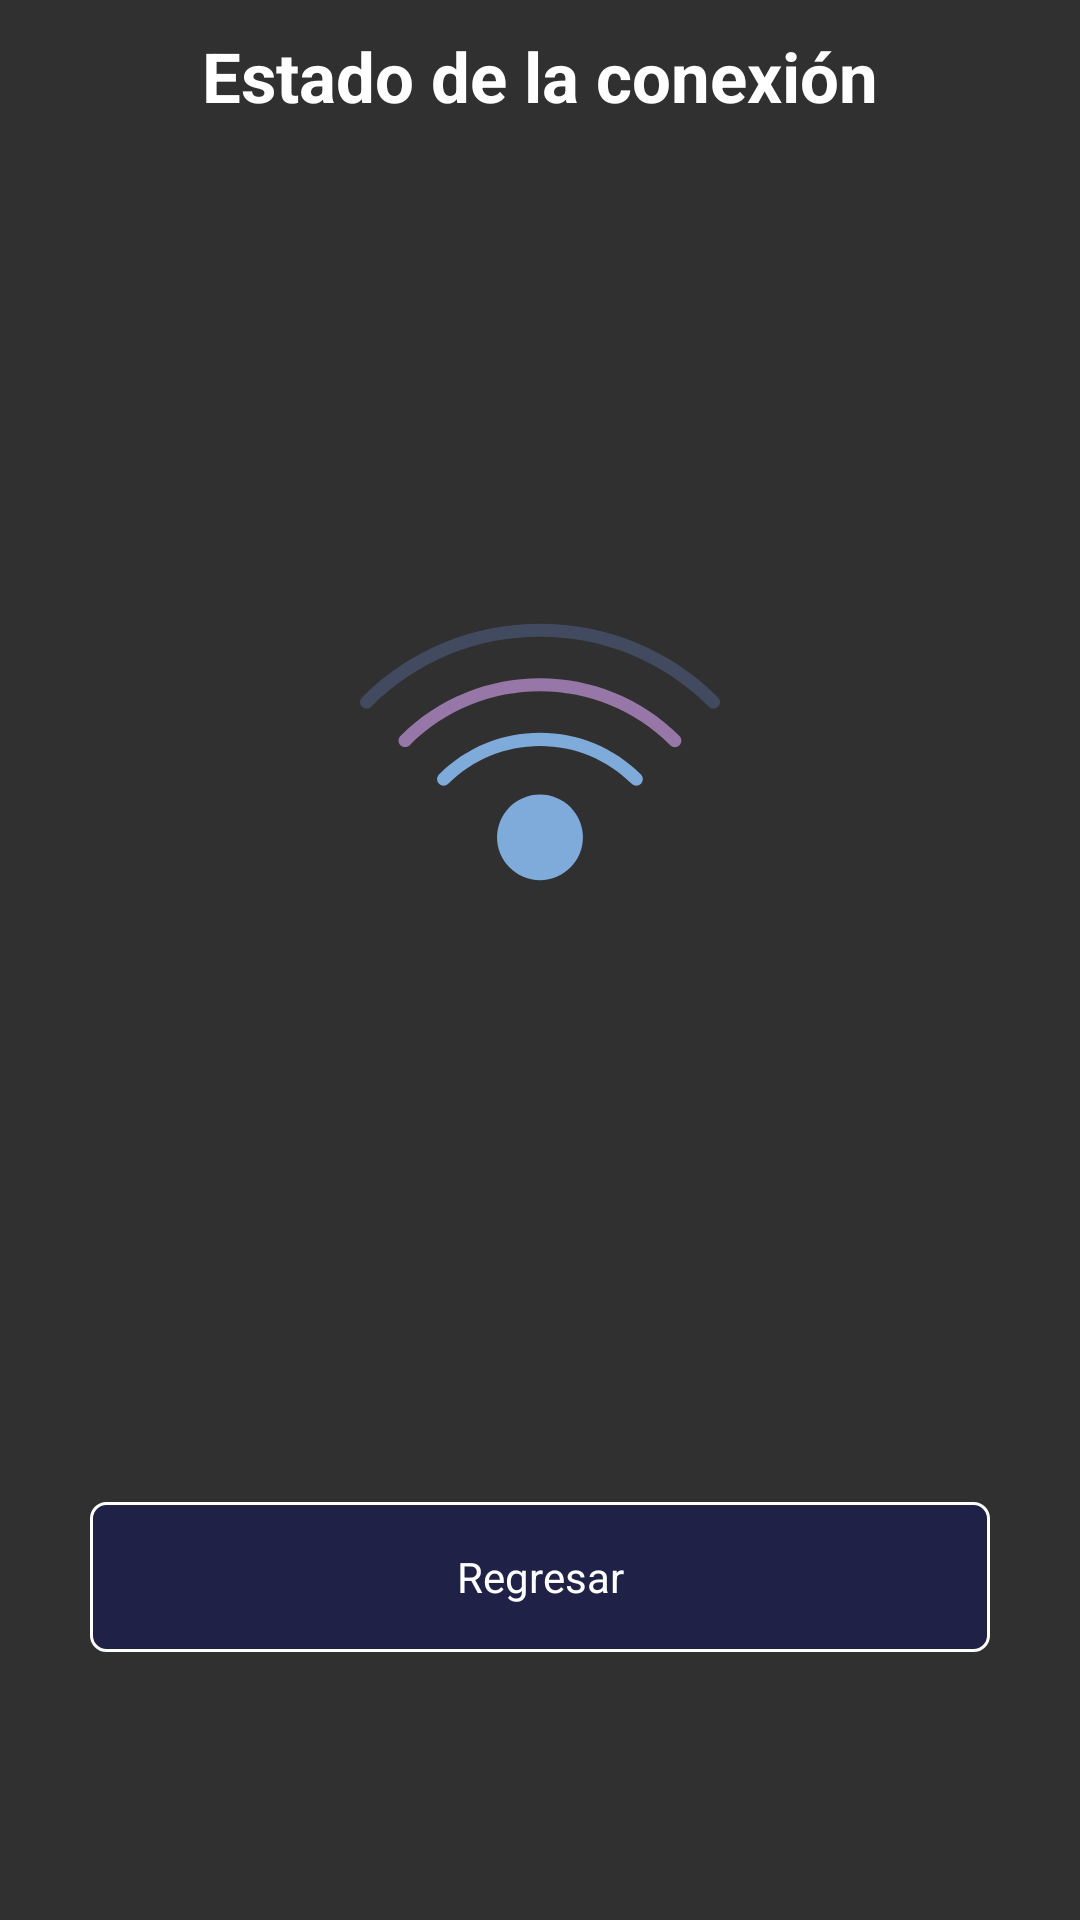

Icon click points for this 1080x1920 phone screenshot, format (x=x, y=y):
Estado de la conexión: (x=540, y=752)
